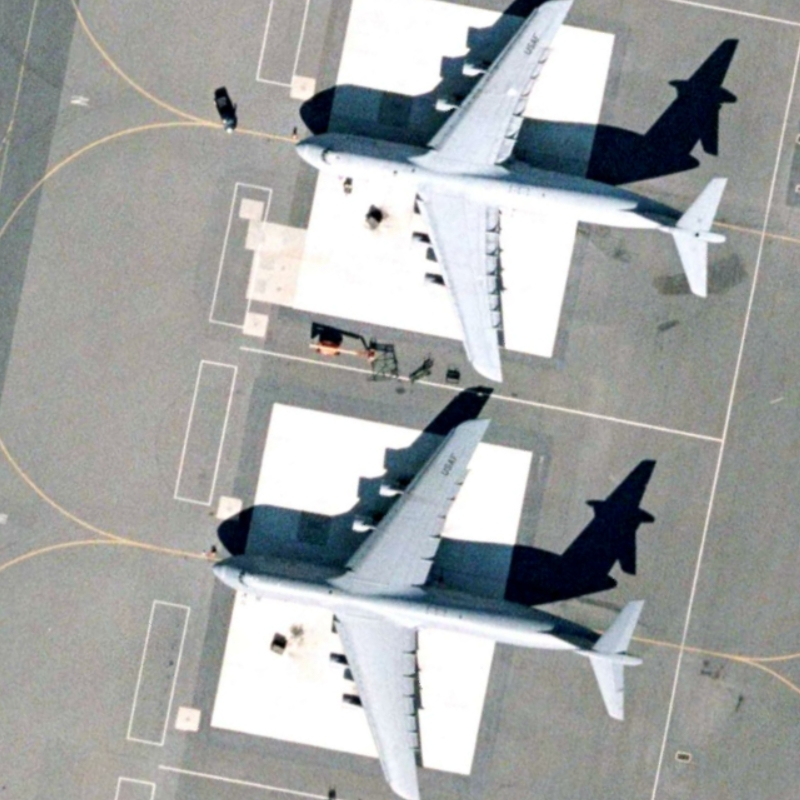A4: (283, 1, 742, 393), (199, 412, 655, 800)
